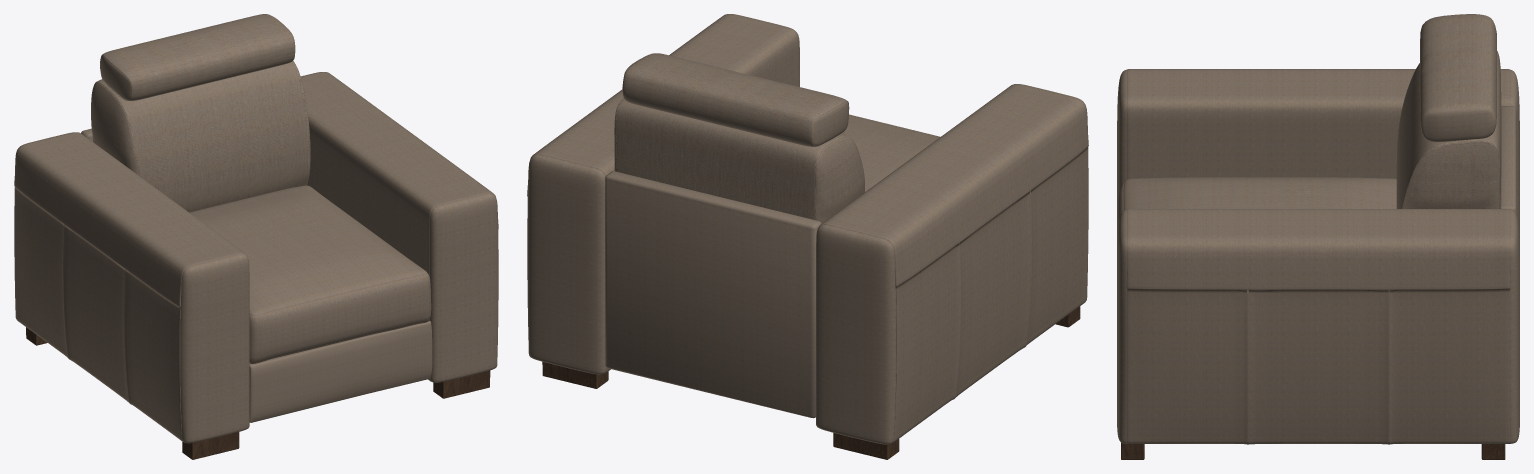
The model's file is Tapicerk_i_krzesla_fotel_milton.obj.
3 views of the same model, side by side, from view 1: azimuth 30°, elevation 25°; view 2: azimuth 150°, elevation 25°; view 3: azimuth 270°, elevation 25° (orthographic). The views are drawn at different scales.
Visible parts, largest first — view 1: Box016, Box019, Object014, Box020, Box015, Box039, Box022, Box03; view 2: Box016, ChamferBox02, Box019, Box020, Box039, Object014, Box021, Box04; view 3: Box019, Box016, Box039, Box020, Object014, ChamferBox02.
Part boxes in pixels (x1,y1,x2,y2): Box016: [14, 132, 249, 443]; Box019: [300, 72, 498, 382]; Object014: [189, 185, 431, 363]; Box020: [91, 61, 310, 212]; Box015: [249, 321, 432, 422]; Box039: [100, 14, 295, 100]; Box022: [182, 432, 239, 459]; Box03: [433, 370, 490, 398]; Box016: [816, 84, 1088, 444]; ChamferBox02: [605, 171, 821, 418]; Box019: [527, 14, 799, 374]; Box020: [614, 98, 864, 223]; Box039: [622, 53, 849, 146]; Object014: [842, 114, 940, 191]; Box021: [833, 433, 899, 459]; Box04: [542, 361, 608, 388]; Box019: [1117, 209, 1519, 444]; Box016: [1117, 69, 1519, 259]; Box039: [1419, 14, 1496, 142]; Box020: [1396, 51, 1501, 208]; Object014: [1117, 177, 1396, 243]; ChamferBox02: [1499, 106, 1516, 214].
Bounding box in the file's own units: 107 × 87.06 × 99.35.
